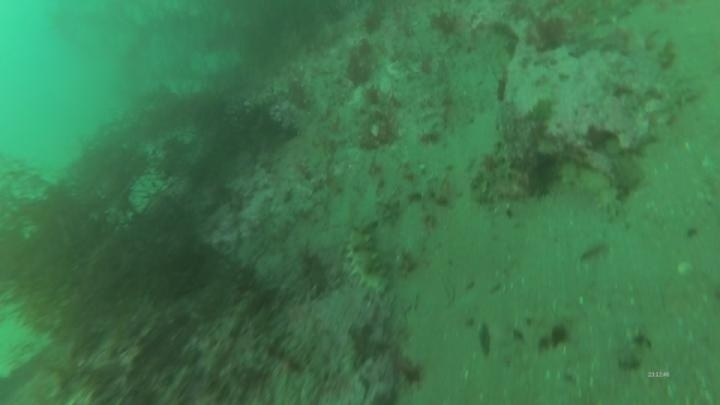holothurian: (342, 220, 391, 299)
